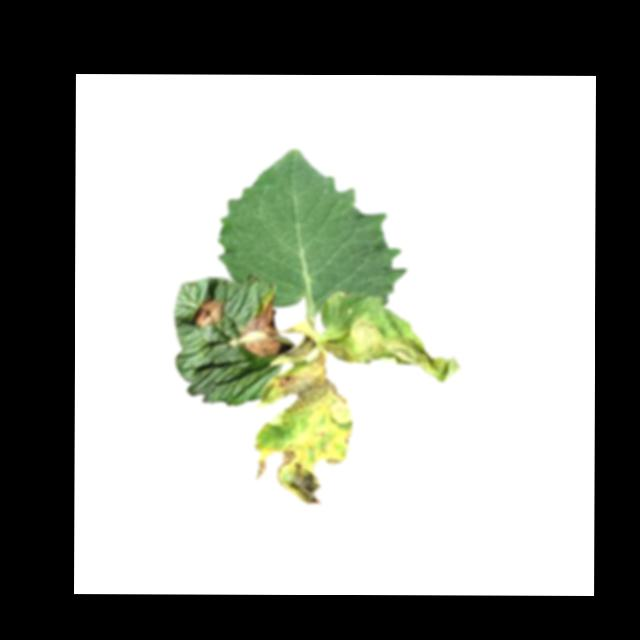Late_blight: (321, 299, 461, 383), (275, 424, 352, 505), (264, 351, 348, 417), (236, 294, 297, 358), (249, 438, 272, 481), (192, 299, 221, 328)
healthy: (218, 147, 407, 311)
